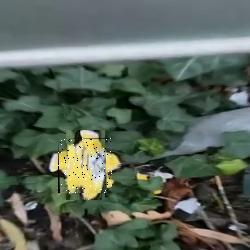restaffald: (58, 138, 112, 193)
